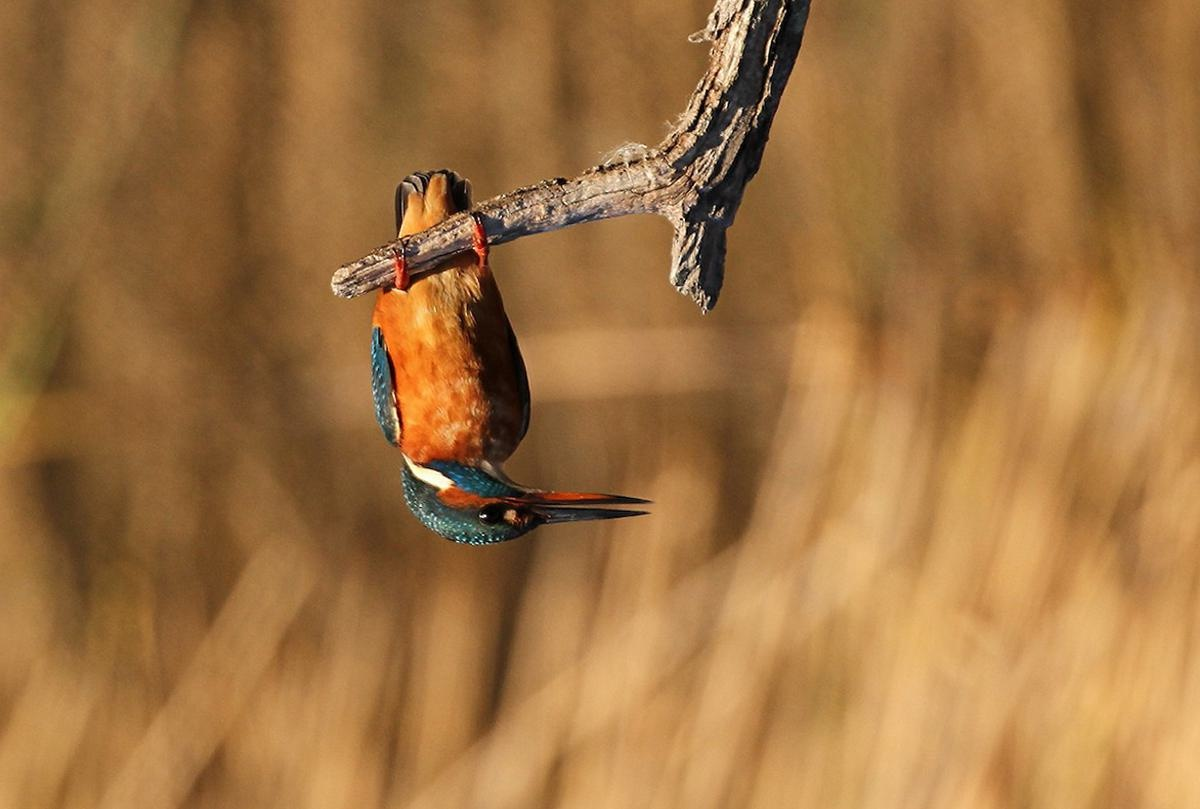kingfisher: (369, 145, 665, 572)
